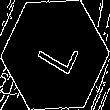L_NW: (29, 29, 81, 81)
